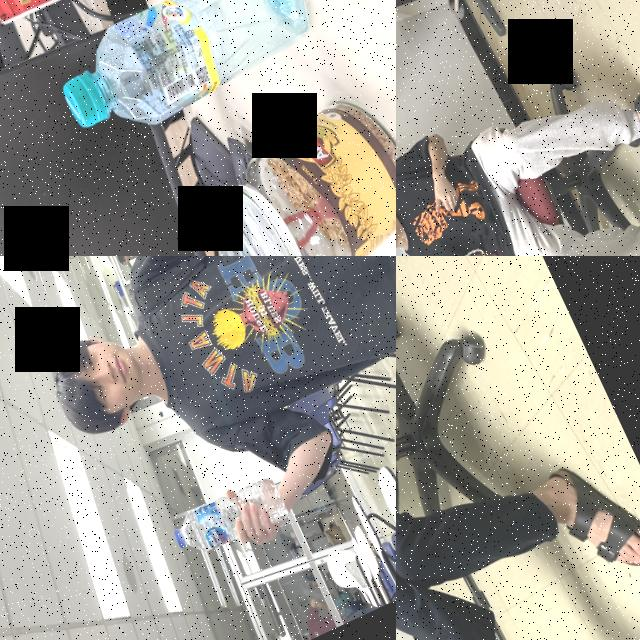bottle: (41, 0, 329, 156), (166, 472, 292, 566)
